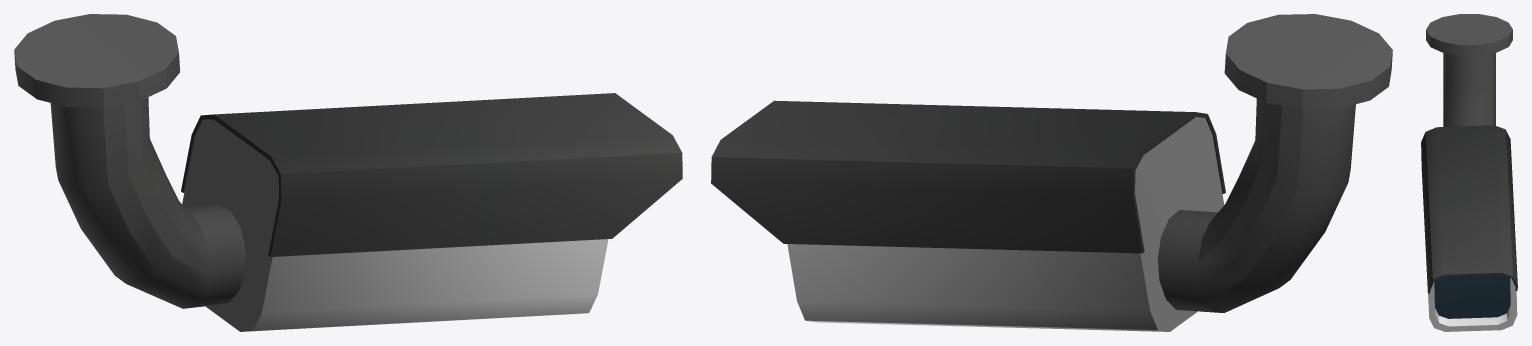
The model's file is cam.fbx.
3 renders of one model, left to right at view 1: azimuth 30°, elevation 25°; view 2: azimuth 150°, elevation 25°; view 3: azimuth 270°, elevation 25°, orthographic. The views are drawn at different scales.
Parts seen in each view (by area): view 1: Cube; view 2: Cube; view 3: Cube.
Part boxes in pixels (x1=…): Cube: x1=14, y1=14, x2=682, y2=331; Cube: x1=711, y1=14, x2=1392, y2=331; Cube: x1=1421, y1=14, x2=1517, y2=331.
Size of the model in its own units: 61.66 by 34.27 by 15.95.
